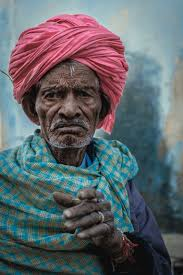s.black: (38, 103, 61, 146)
